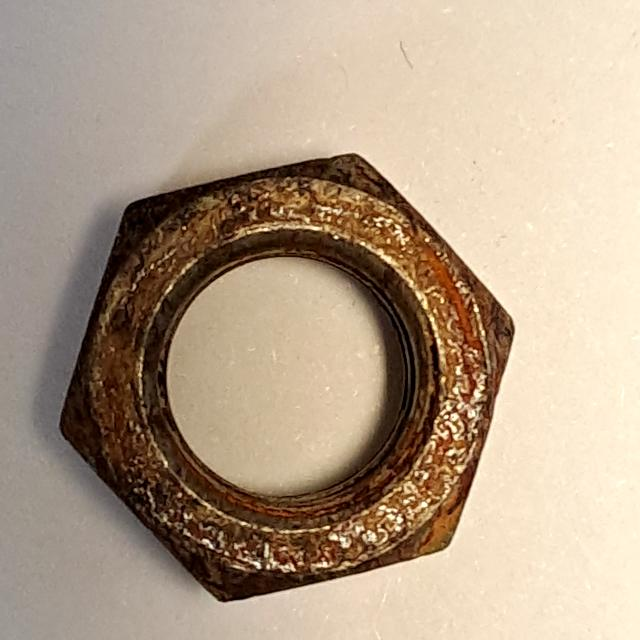Rust: (42, 141, 524, 614)
